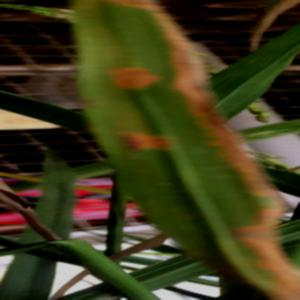2 BacterialBlight: (84, 7, 253, 284)
